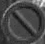No waiting: (3, 2, 44, 41)
